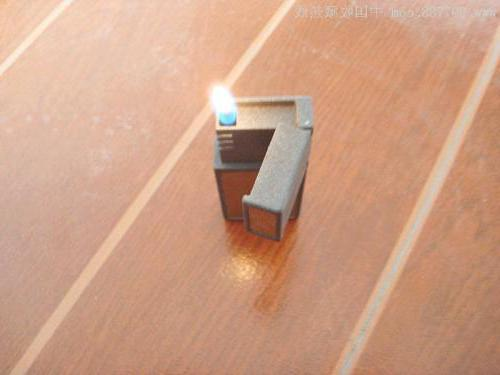fire: (202, 77, 252, 140)
